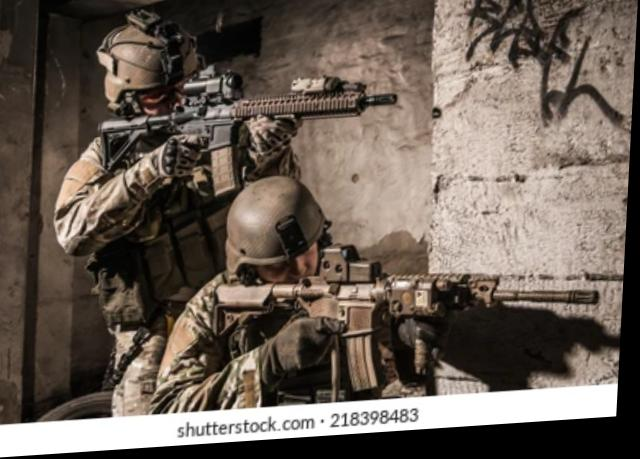other: (70, 12, 298, 407), (166, 177, 343, 414)
